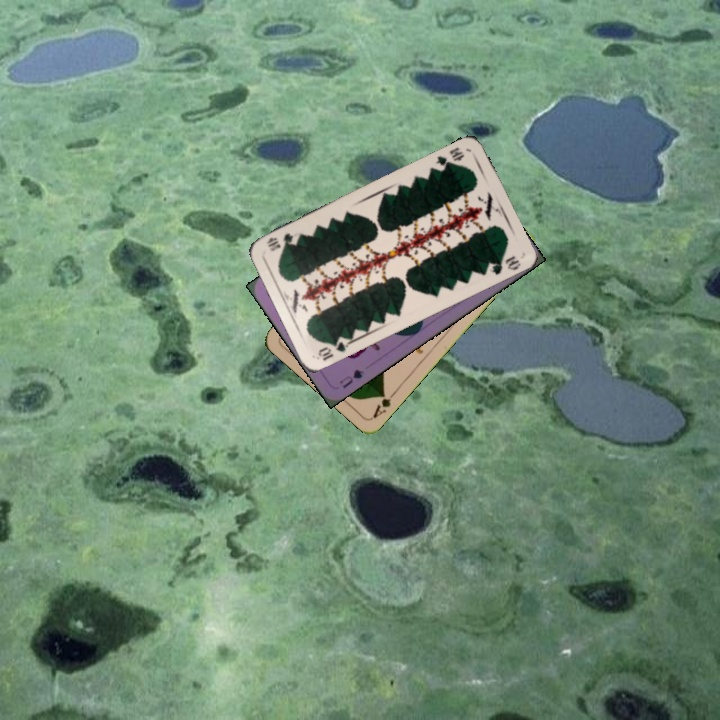G10: (314, 333, 353, 364), (432, 143, 467, 171)
GA: (368, 387, 399, 421)
GU: (335, 365, 367, 391)
